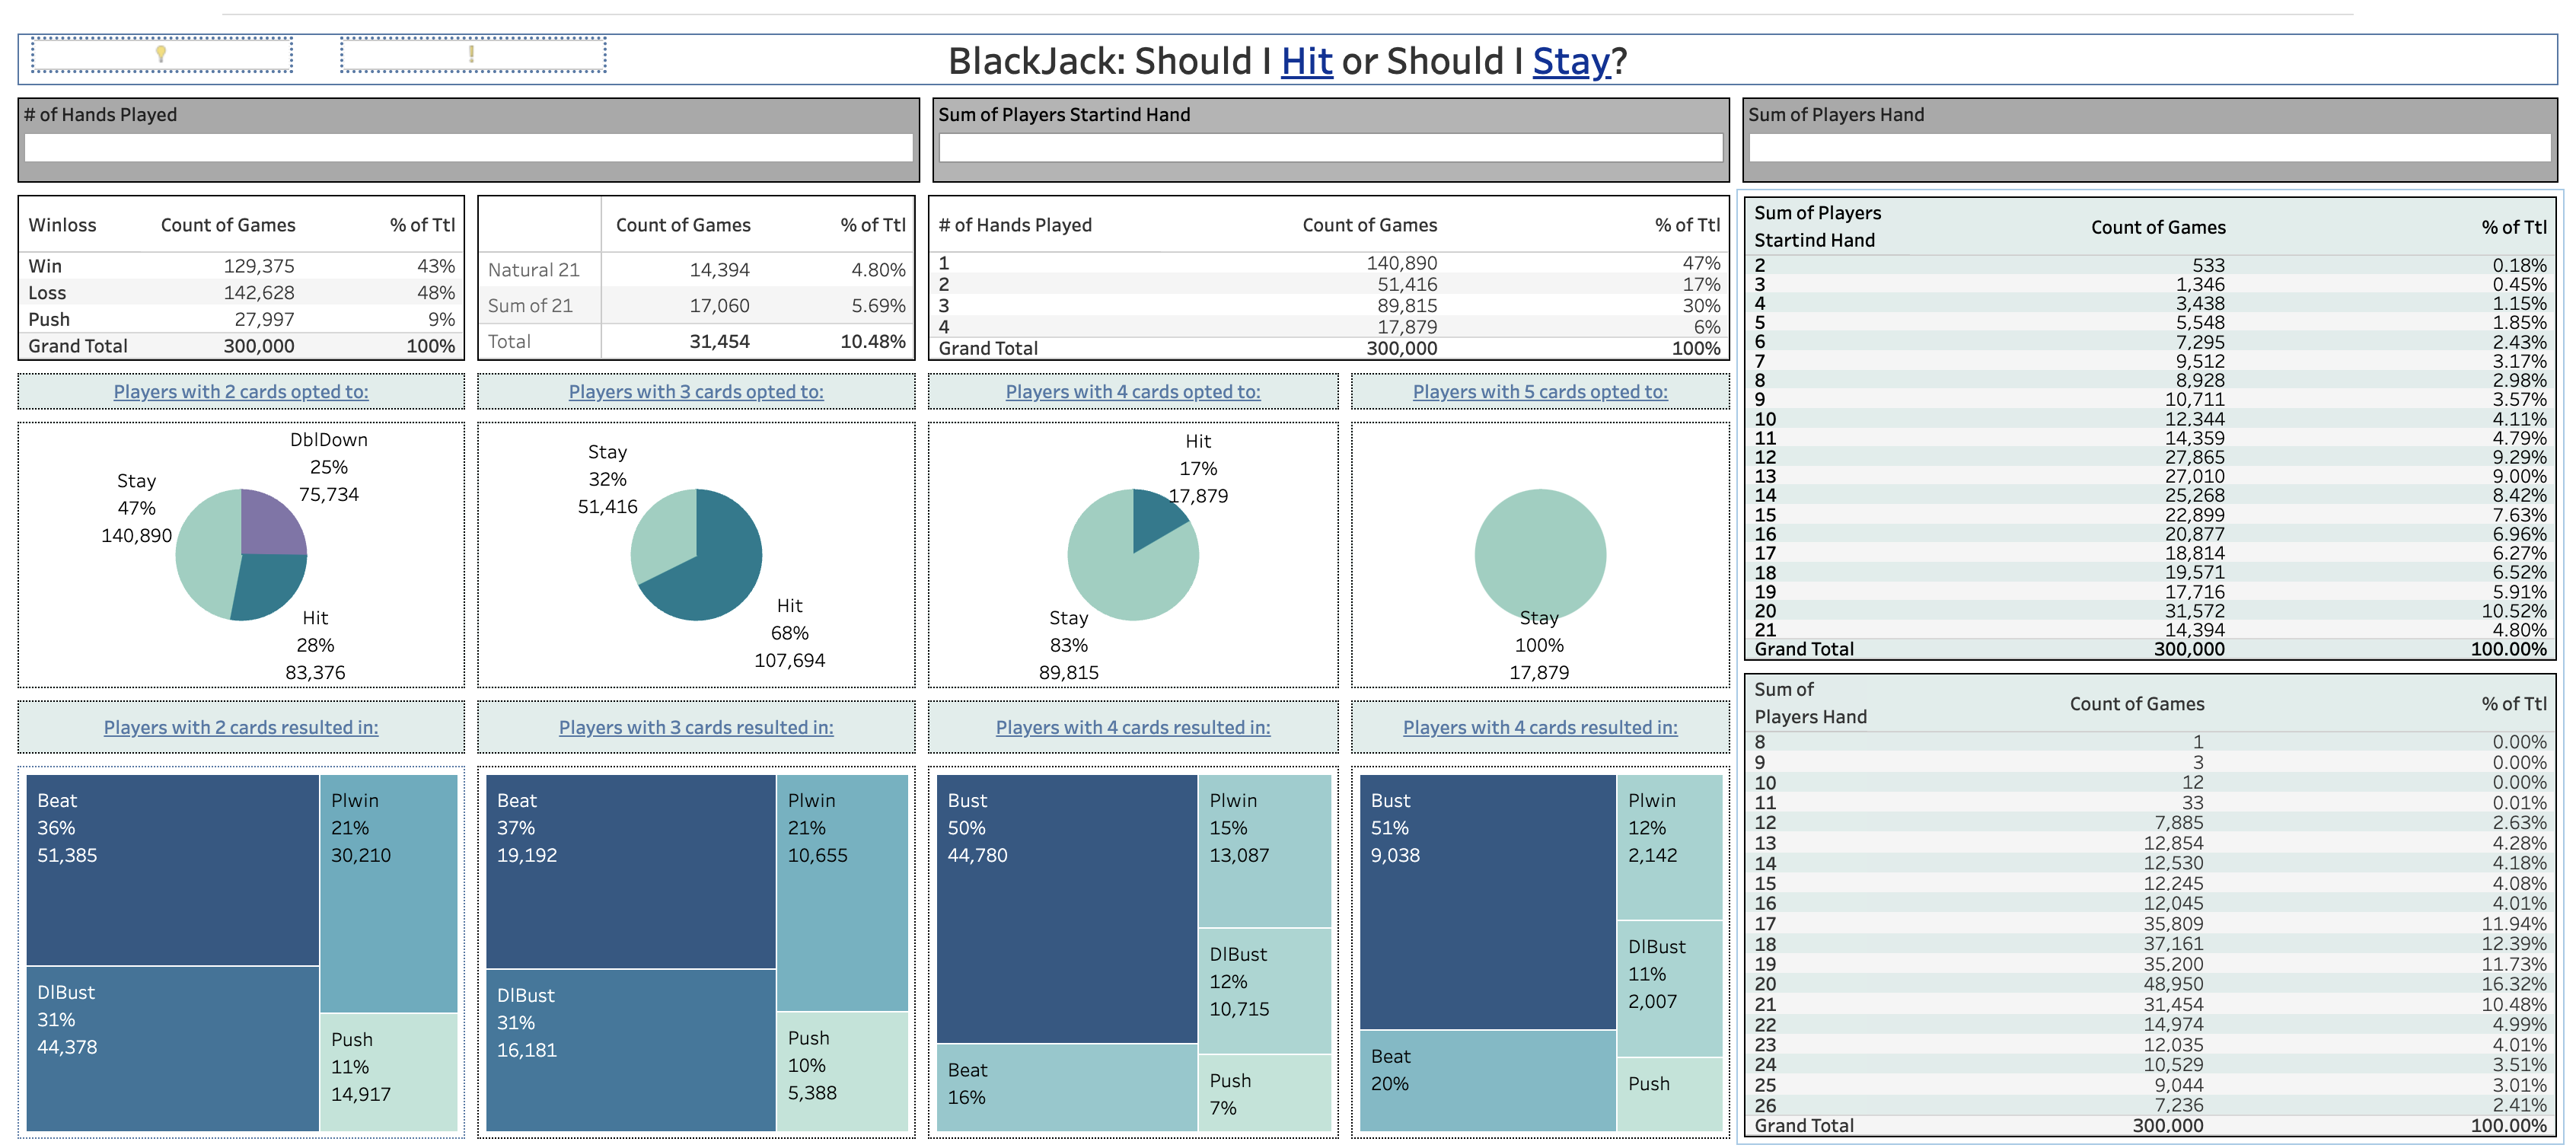

Layout of this report page (visuals, bound fields, positions):
{"tool":"tableau","page":{"name":"Should I Hit or Should I Stay?","canvas":[1000,1000],"units":"permille","ordinal":0},"visuals":[{"type":"title","box":[5.3,11,989.4,57.8]},{"type":"worksheet","title":"Player Basic Strategy","mark":"Shape","rows":["Calculation_2977723838627258369"],"box":[12.7,18.5,101.2,32.1]},{"type":"worksheet","title":"Data Dictionary","mark":"Shape","rows":["Calculation_2977723838627258369"],"box":[132,18.5,103.6,32.1]},{"type":"filter","title":"Playershands Played","param":"[federated.1wpkbsw02yylab17fde751lduxdm].[none:Playershands Played (copy)_226467","box":[5.3,68.8,354.3,85.4]},{"type":"filter","title":"SumofStarting Hand","param":"[federated.1wpkbsw02yylab17fde751lduxdm].[none:Ply2Cardsum (copy 2)_272531115507","box":[359.7,68.8,314.2,85.4]},{"type":"filter","title":"SumofCards","param":"[federated.1wpkbsw02yylab17fde751lduxdm].[none:Sumofcards (copy)_226467735314561","box":[673.9,68.8,320.8,85.4]},{"type":"worksheet","title":"WinLoss","mark":"Automatic","rows":["winloss"],"box":[5.3,154.2,178.5,155.1]},{"type":"worksheet","title":"BlackJack","mark":"Automatic","rows":["blkjck"],"box":[183.8,154.2,174.4,155.1]},{"type":"worksheet","title":"Playershands Played","mark":"Automatic","rows":["Playershands Played (copy)_2264677353147076609"],"box":[358.1,154.2,315.6,155.1]},{"type":"worksheet","title":"SumofStarting Hand","mark":"Automatic","rows":["Ply2Cardsum (copy 2)_2725311155070689280"],"box":[674.4,155.4,319.6,416.8]},{"type":"text","box":[5.3,309.3,178.5,43]},{"type":"text","box":[183.8,309.3,174.6,43]},{"type":"text","box":[358.4,309.3,163.7,43]},{"type":"text","box":[522.1,309.3,151.6,42.5]},{"type":"worksheet","title":"5cardhand","mark":"Pie","box":[522.1,351.8,151.6,244]},{"type":"worksheet","title":"2cardhand","mark":"Pie","box":[5.3,352.3,178.5,243.5]},{"type":"worksheet","title":"3cardhand","mark":"Pie","box":[183.8,352.3,174.6,243.5]},{"type":"worksheet","title":"4cardhand","mark":"Pie","box":[358.4,352.3,163.7,243.5]},{"type":"worksheet","title":"SumofCards","mark":"Automatic","rows":["Sumofcards (copy)_2264677353145610240"],"box":[674.4,572.2,319.6,415.4]},{"type":"text","box":[5.3,595.8,178.5,56.8]},{"type":"text","box":[183.8,595.8,174.6,56.8]},{"type":"text","box":[358.4,595.8,163.7,56.8]},{"type":"text","box":[522.1,595.8,151.6,56.8]},{"type":"worksheet","title":"2cardresult","mark":"Automatic","box":[5.3,652.6,178.5,336.4]},{"type":"worksheet","title":"3cardresult","mark":"Automatic","box":[183.8,652.6,174.6,336.4]},{"type":"worksheet","title":"4cardresult","mark":"Automatic","box":[358.4,652.6,163.7,336.4]},{"type":"worksheet","title":"5cardresult","mark":"Automatic","box":[522.1,652.6,151.6,336.4]}]}

Visuals, with their boxes on the dashboard's canvas, which has no fixed pixel size, in thousandths of its width and height (x1, y1, x2, y2). These are canvas units, not pixel positions in the 2576x1148 screenshot, which may show the page scaled, cropped or inside an application window:
title: (left=5, top=11, right=995, bottom=69)
"Player Basic Strategy" worksheet (Shape marks): (left=13, top=18, right=114, bottom=51)
"Data Dictionary" worksheet (Shape marks): (left=132, top=18, right=236, bottom=51)
"Playershands Played" filter: (left=5, top=69, right=360, bottom=154)
"SumofStarting Hand" filter: (left=360, top=69, right=674, bottom=154)
"SumofCards" filter: (left=674, top=69, right=995, bottom=154)
"WinLoss" worksheet: (left=5, top=154, right=184, bottom=309)
"BlackJack" worksheet: (left=184, top=154, right=358, bottom=309)
"Playershands Played" worksheet: (left=358, top=154, right=674, bottom=309)
"SumofStarting Hand" worksheet: (left=674, top=155, right=994, bottom=572)
text: (left=5, top=309, right=184, bottom=352)
text: (left=184, top=309, right=358, bottom=352)
text: (left=358, top=309, right=522, bottom=352)
text: (left=522, top=309, right=674, bottom=352)
"5cardhand" worksheet (Pie marks): (left=522, top=352, right=674, bottom=596)
"2cardhand" worksheet (Pie marks): (left=5, top=352, right=184, bottom=596)
"3cardhand" worksheet (Pie marks): (left=184, top=352, right=358, bottom=596)
"4cardhand" worksheet (Pie marks): (left=358, top=352, right=522, bottom=596)
"SumofCards" worksheet: (left=674, top=572, right=994, bottom=988)
text: (left=5, top=596, right=184, bottom=653)
text: (left=184, top=596, right=358, bottom=653)
text: (left=358, top=596, right=522, bottom=653)
text: (left=522, top=596, right=674, bottom=653)
"2cardresult" worksheet: (left=5, top=653, right=184, bottom=989)
"3cardresult" worksheet: (left=184, top=653, right=358, bottom=989)
"4cardresult" worksheet: (left=358, top=653, right=522, bottom=989)
"5cardresult" worksheet: (left=522, top=653, right=674, bottom=989)
